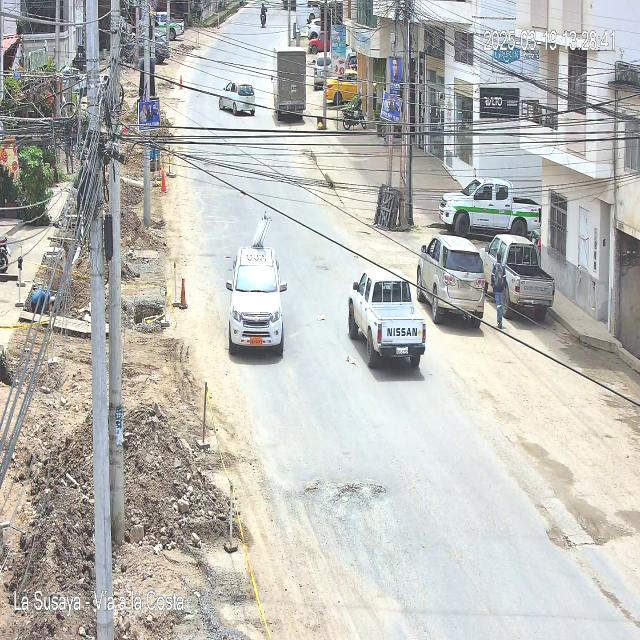CMT: (347, 271, 428, 383), (226, 238, 287, 365)
